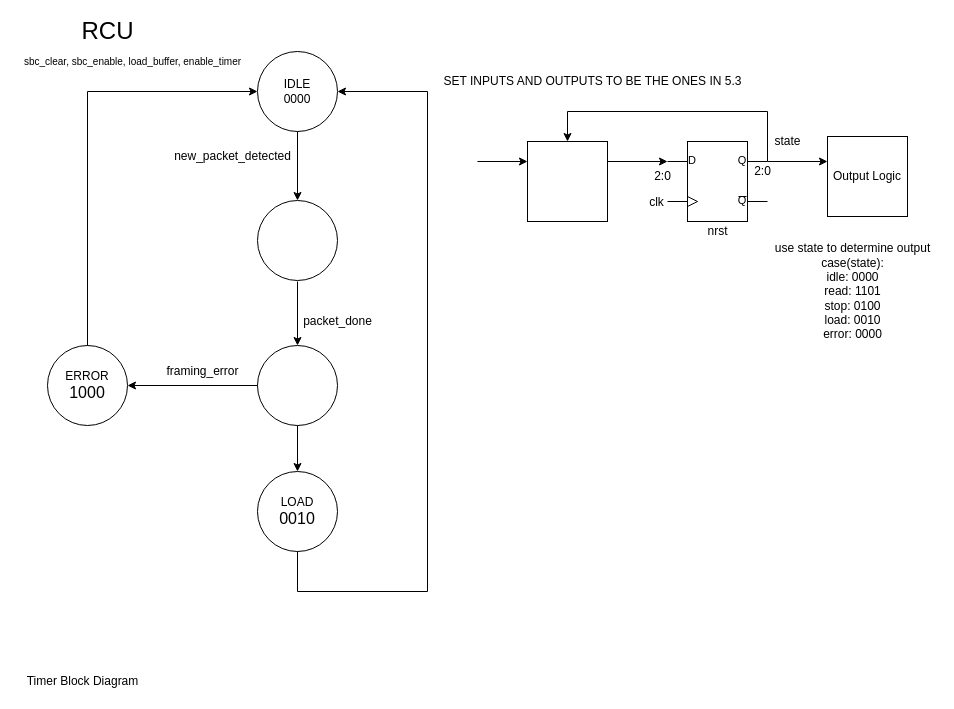
This 954x709 diagram has some shape labels left out. The box of each missing label's shape, as (x1, y1, x2, y2) in pixels:
Next State Logic: (526, 140, 608, 222)
READ 0001: (256, 200, 338, 280)
STOP 0100: (256, 344, 338, 426)
